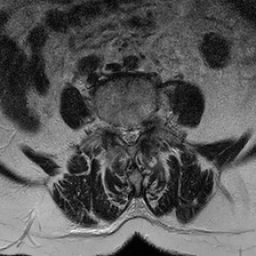CCS_stenosis: (126, 120, 133, 152)
LFS_normal: (141, 115, 149, 141)
LLS_normal: (133, 118, 141, 146)
RFS_normal: (110, 115, 118, 141)
RLS_normal: (118, 118, 126, 148)
